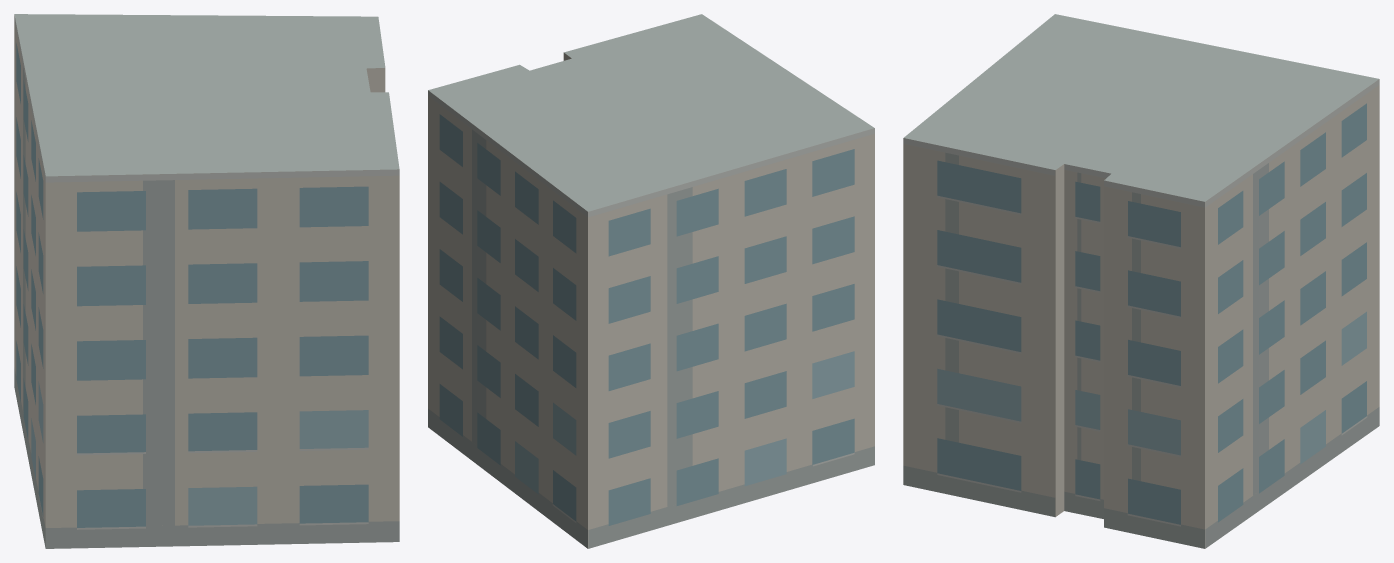
The model's file is survey-upis-32892034.glb.
The picture shows the model from 3 angles, left to right: view 1: azimuth 30°, elevation 25°; view 2: azimuth 150°, elevation 25°; view 3: azimuth 270°, elevation 25°; orthographic projection. The views are drawn at different scales.
Visible parts, largest first — view 1: survey-upis-32892034.tmp; view 2: survey-upis-32892034.tmp; view 3: survey-upis-32892034.tmp.
Boxes of the visible parts, box(x1,y1,x2,y2) form: survey-upis-32892034.tmp: box(14, 14, 399, 548); survey-upis-32892034.tmp: box(428, 14, 874, 548); survey-upis-32892034.tmp: box(903, 14, 1379, 548).
Bounding box in the file's own units: 16.78 × 14.45 × 17.98.
